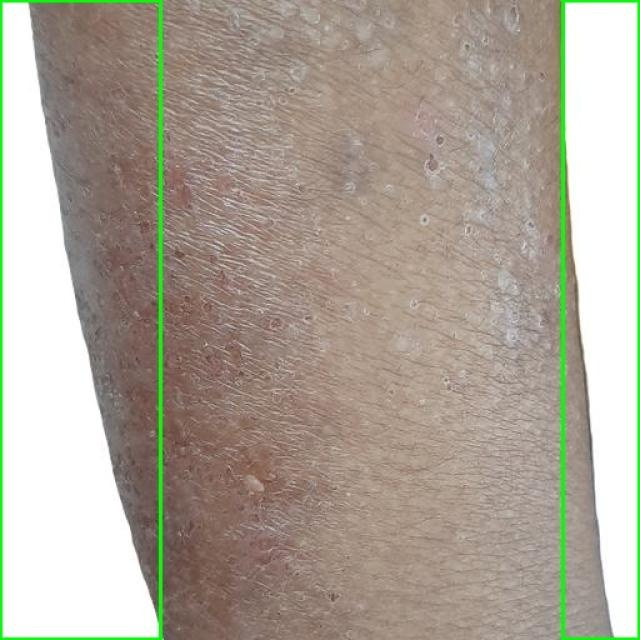Atopic Dermatitis: (0, 0, 160, 639), (562, 0, 639, 639)
